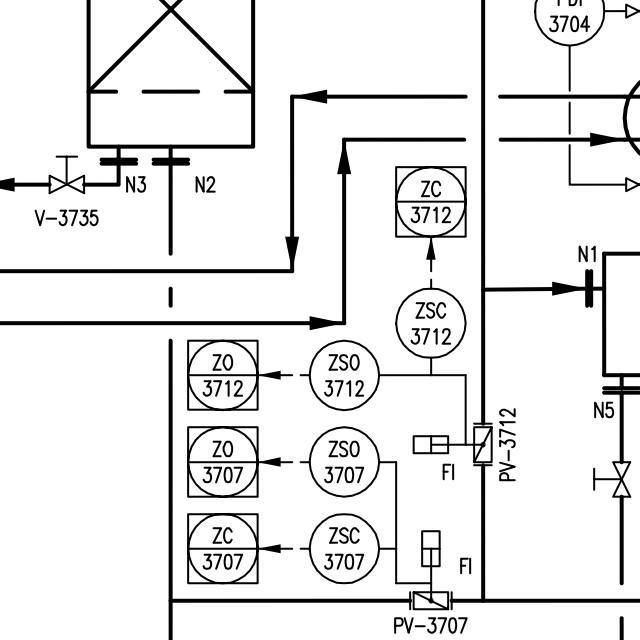BVWA: (403, 525, 458, 614), (412, 416, 497, 470)
HV: (586, 455, 634, 502), (42, 150, 87, 197)
